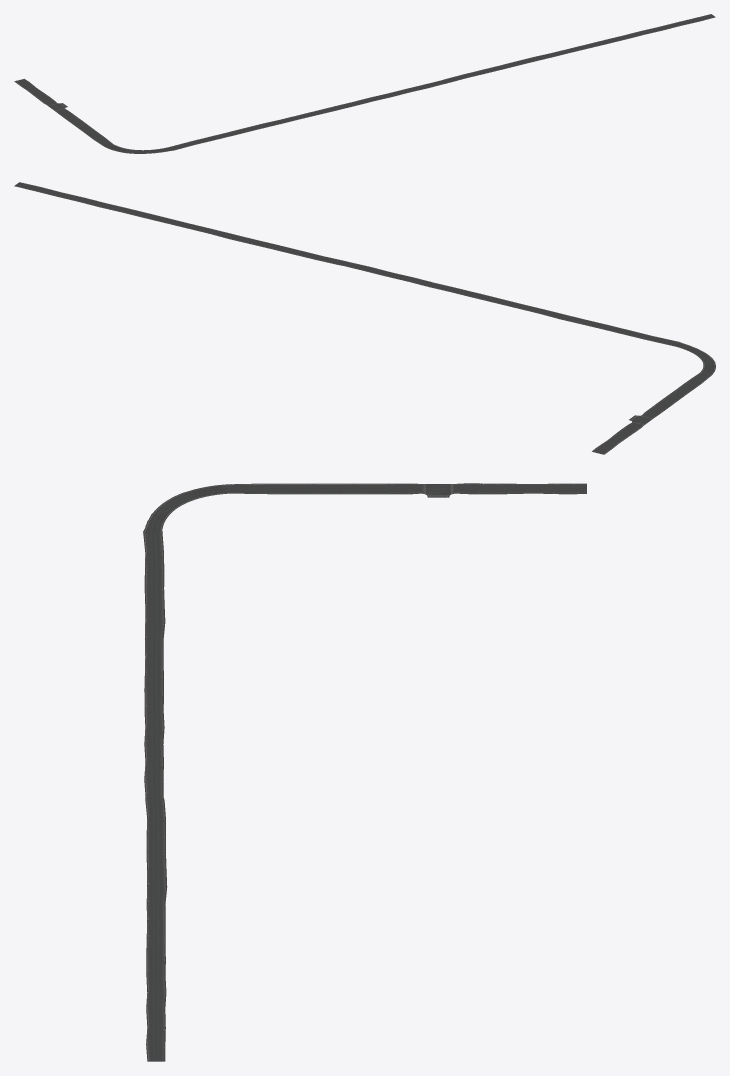
The model's file is RoadExpansion.fbx.
3 views of the same model, one above another, from view 1: azimuth 30°, elevation 25°; view 2: azimuth 150°, elevation 25°; view 3: azimuth 270°, elevation 25° (orthographic). The views are drawn at different scales.
Visible parts, largest first — view 1: polySurface749.001, polySurface749.002, polySurface749; view 2: polySurface749.002, polySurface749.001, polySurface749; view 3: polySurface749, polySurface749.002, polySurface749.001.
Part boxes in pixels (<box>): polySurface749.001: <box>169,80,444,150</box>; polySurface749.002: <box>441,14,715,83</box>; polySurface749: <box>14,79,173,153</box>; polySurface749.002: <box>14,182,348,265</box>; polySurface749.001: <box>344,262,678,345</box>; polySurface749: <box>592,342,715,454</box>; polySurface749: <box>143,483,586,531</box>; polySurface749.002: <box>145,796,167,1061</box>; polySurface749.001: <box>143,531,165,796</box>.
Bounding box in the file's own units: 55493 × 4.72 × 18004.
